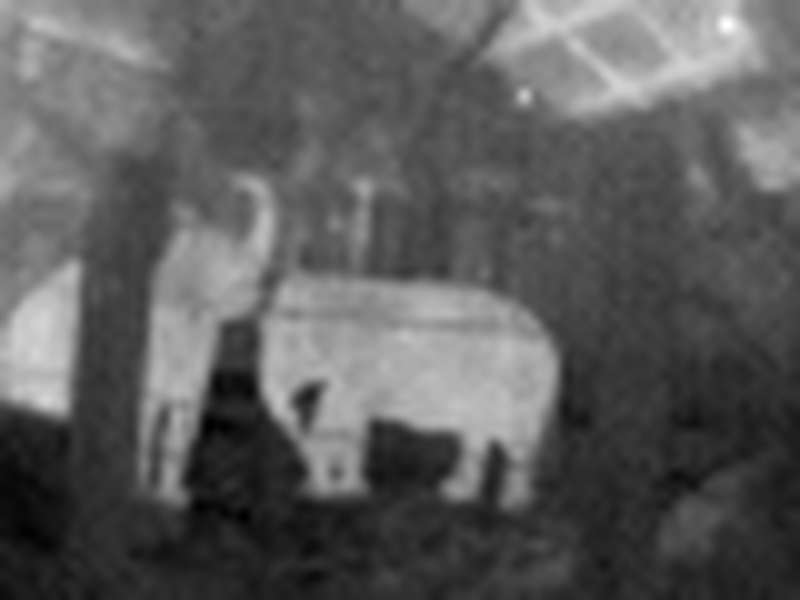elephant: (9, 197, 576, 514)
